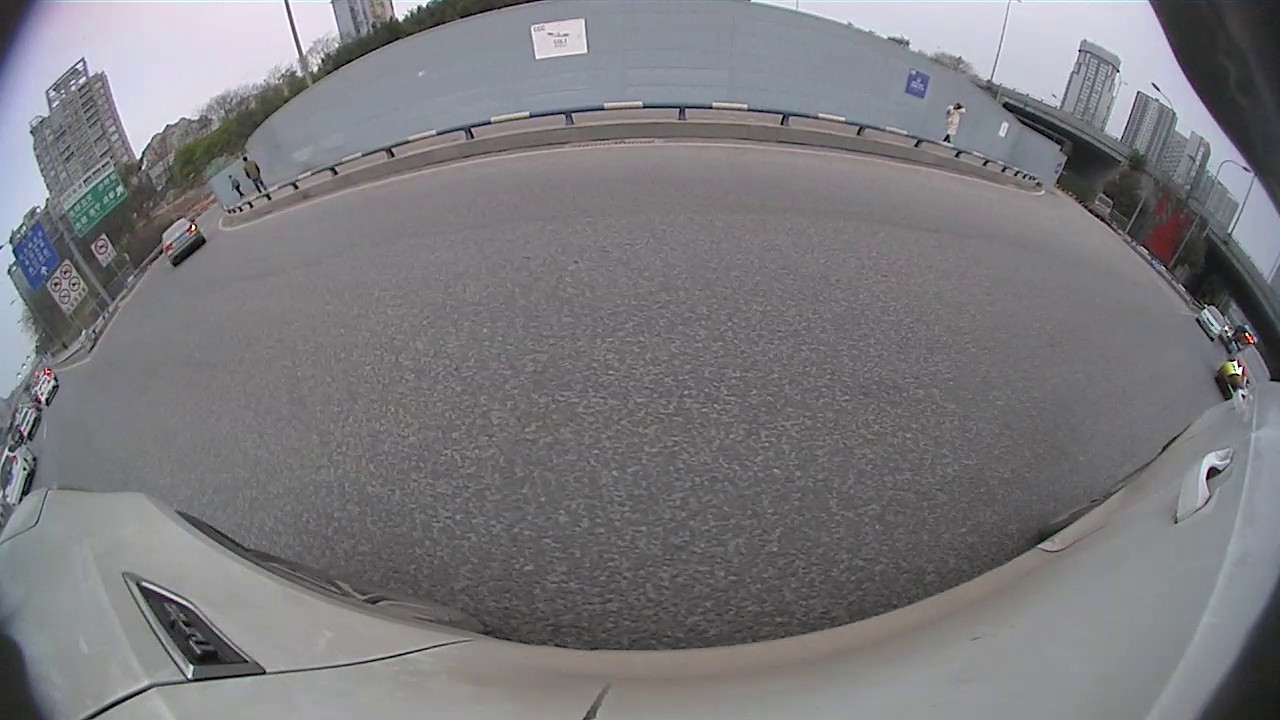car: (1214, 343, 1273, 402), (1, 442, 37, 509), (161, 217, 207, 268), (1197, 304, 1228, 342), (18, 406, 42, 442), (1089, 191, 1115, 222), (36, 375, 60, 407)
person: (242, 154, 257, 202), (947, 101, 963, 143)
